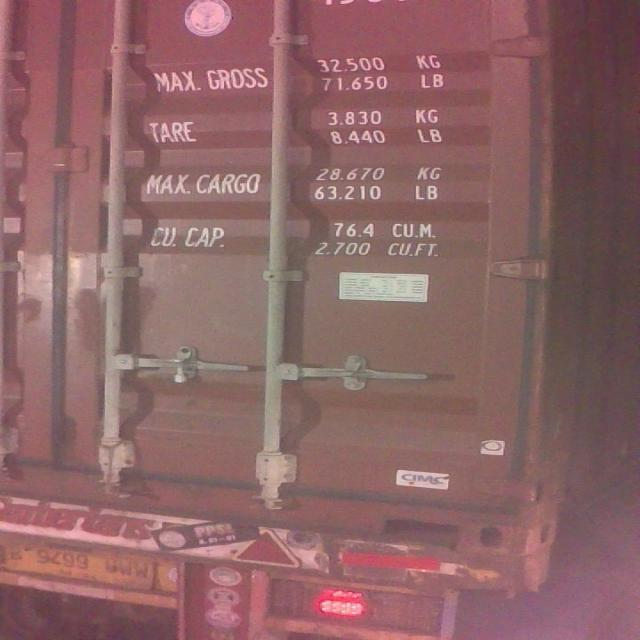seal: (165, 356, 190, 384)
